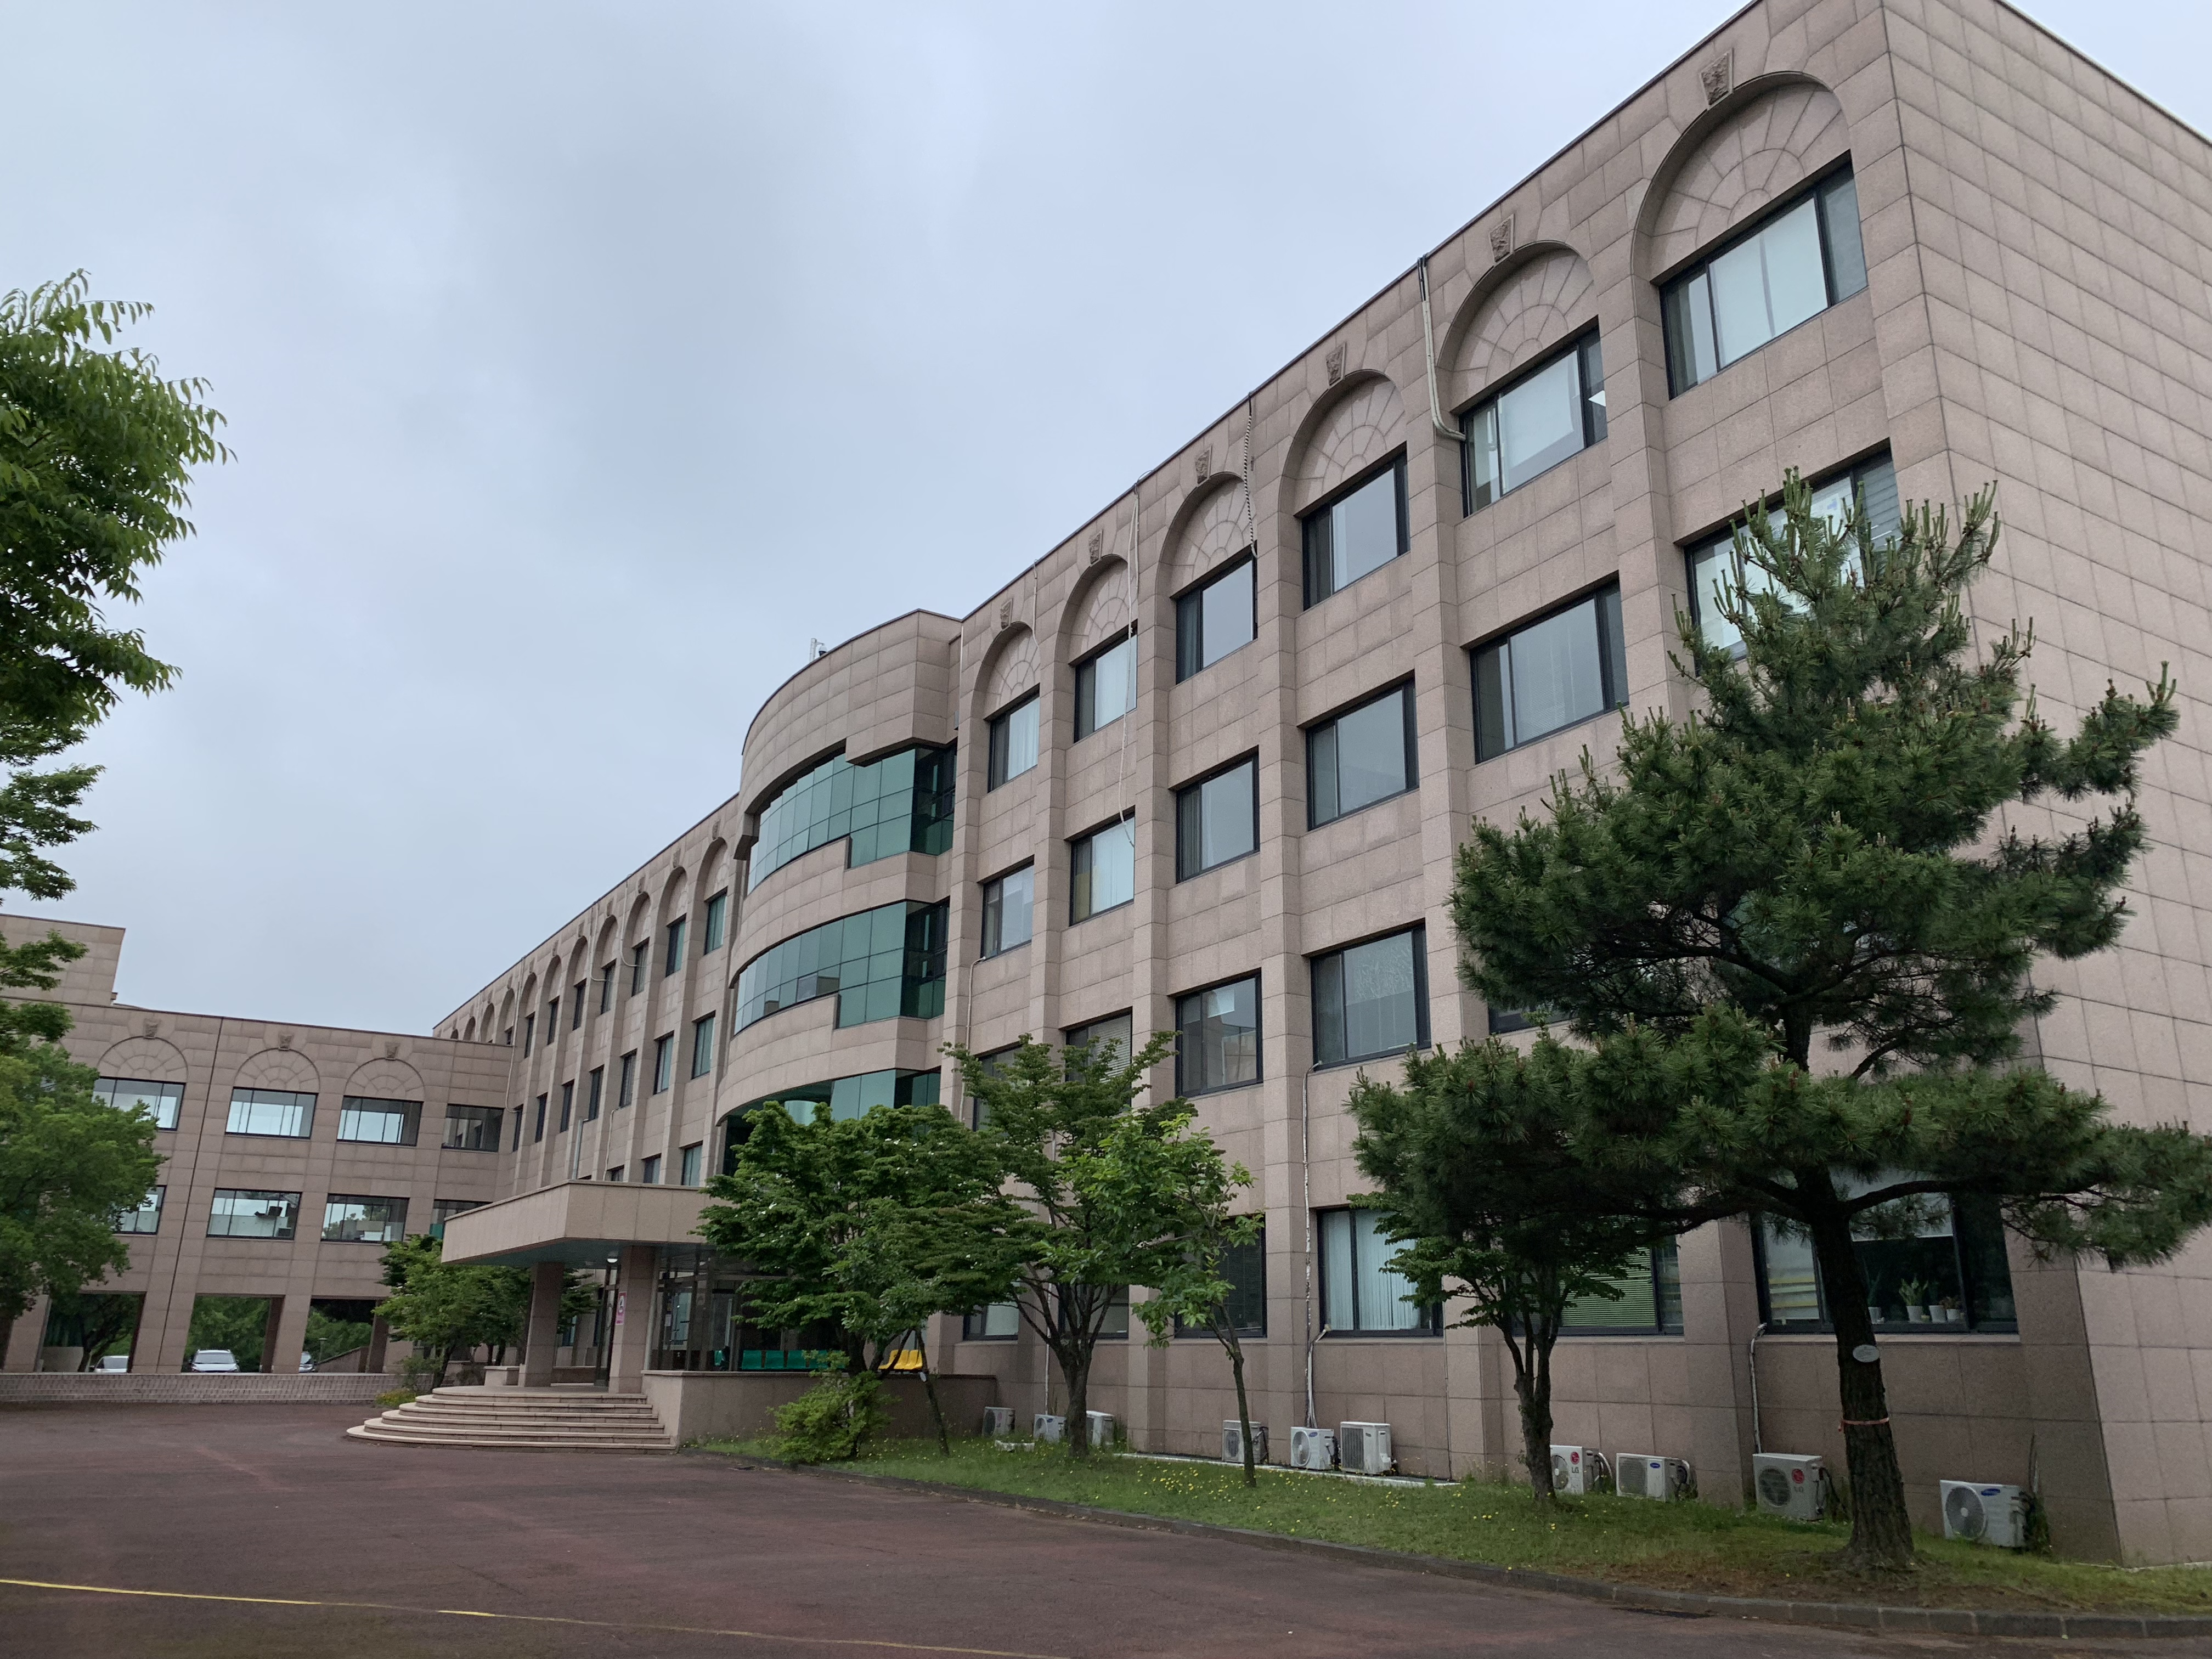Natural Science2: (390, 301, 2055, 1467)
